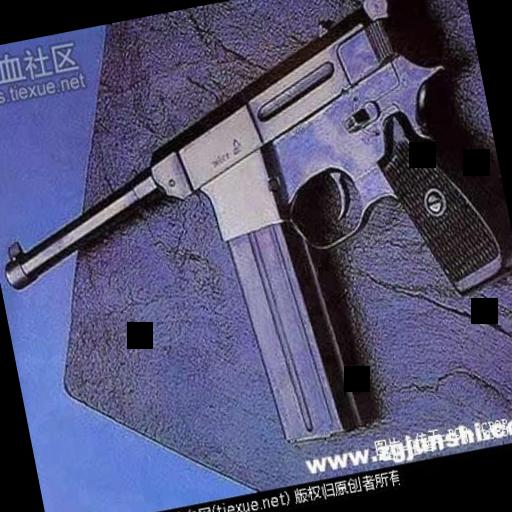Handgun: (0, 0, 506, 371)
